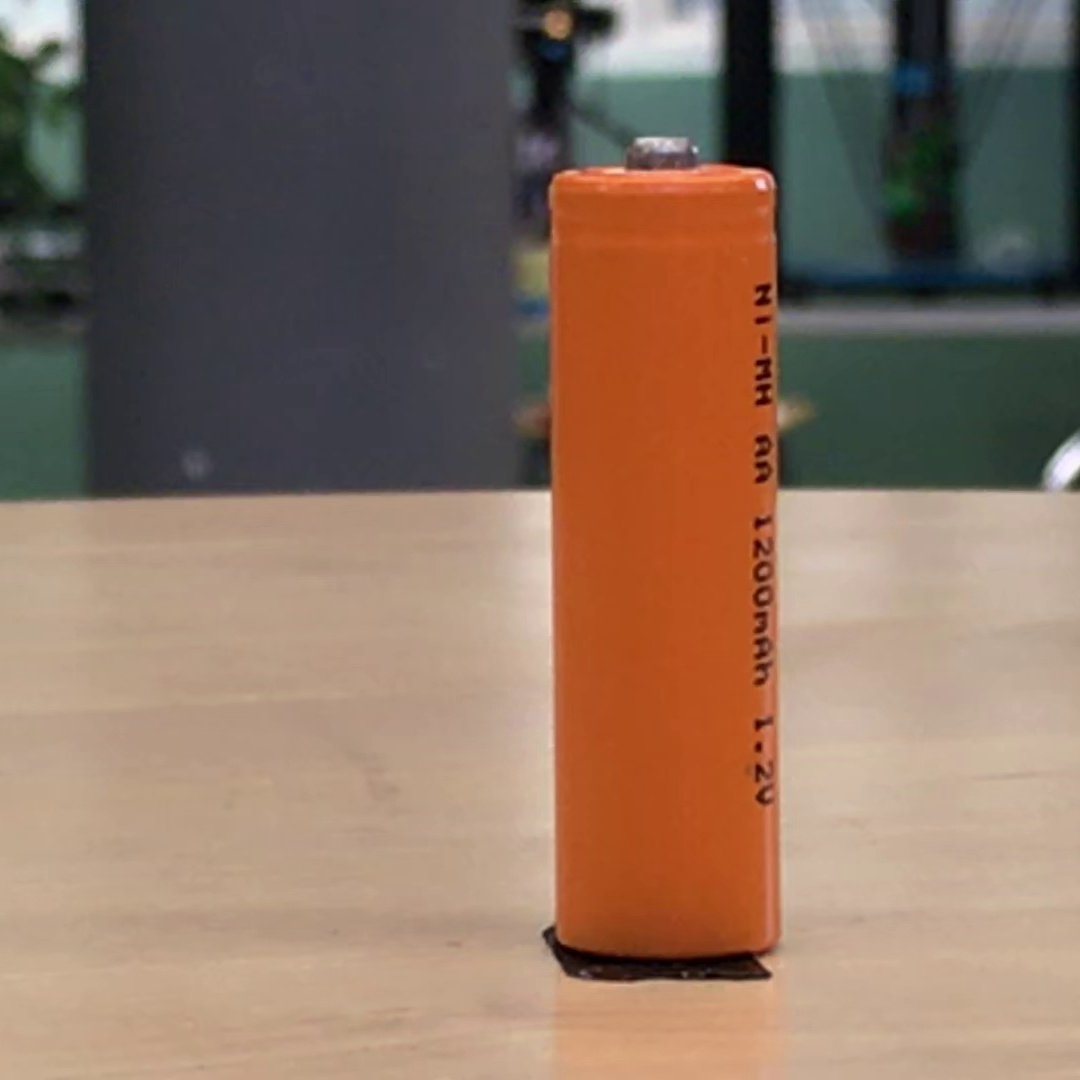keyword: (746, 274, 782, 415)
